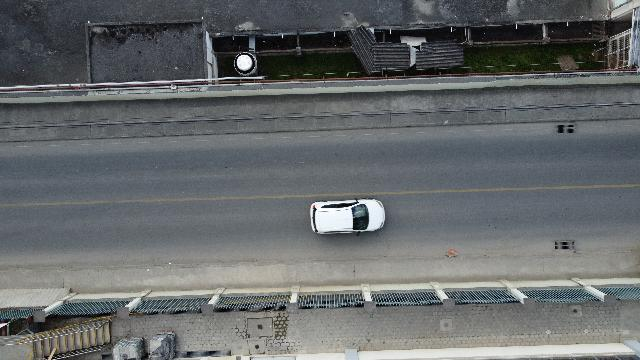Vehiculo: (310, 197, 386, 234)
